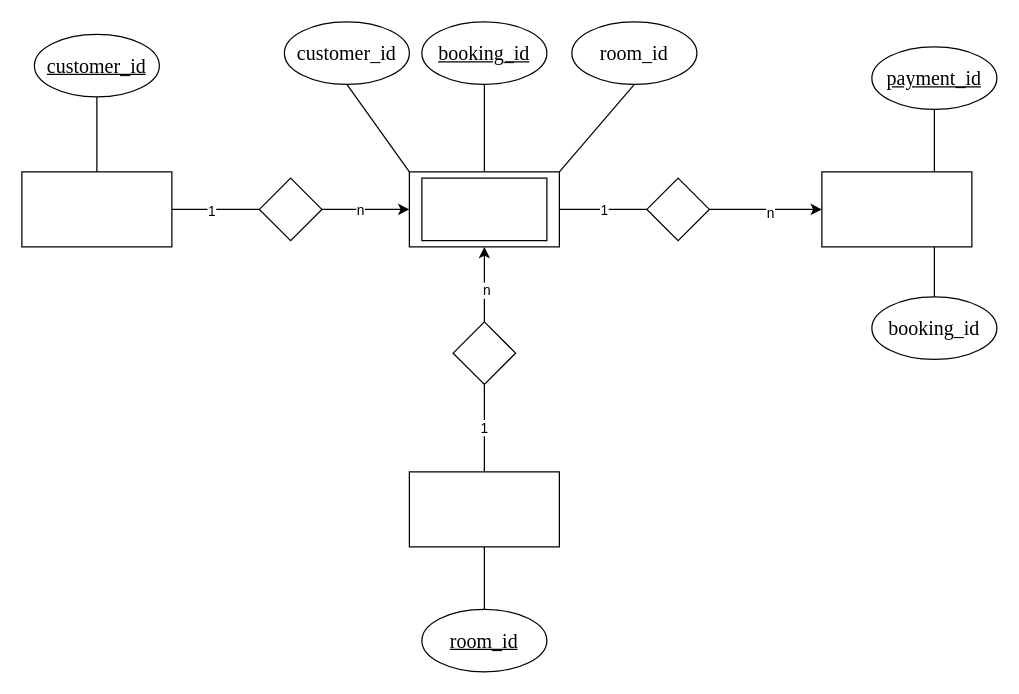
This 1019x694 diagram has some shape labels left out. The shapes that lost their labels are listed below. From the top down, each one's box as (x1, y1, x2, y2) in pixels, then its label:
(21, 171, 172, 247): Customer
(421, 177, 547, 241): Booking
(821, 171, 972, 247): Payment
(408, 471, 559, 547): Room
